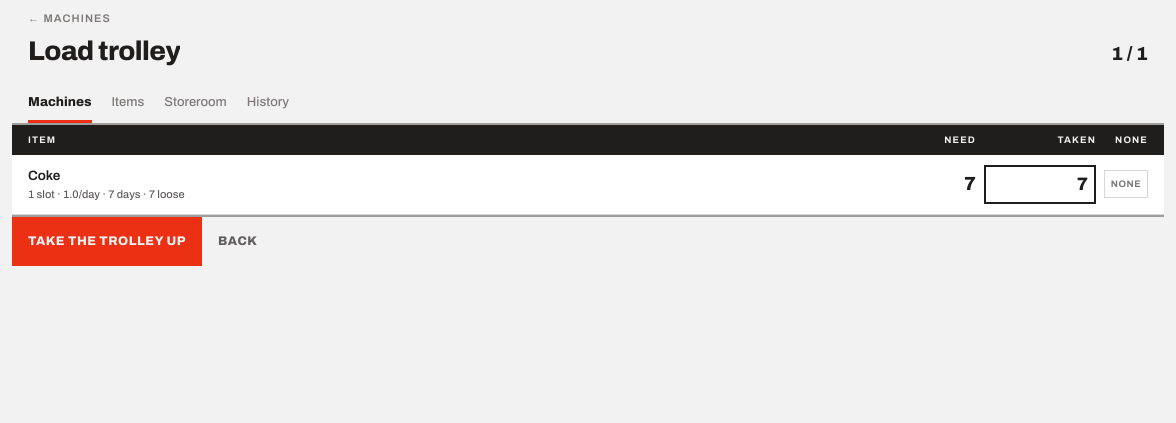
TrolleyScreen, loading › reveals who goes short the moment the taken figure will not cover it
Expected: the text "goes without" is not shown
Replace the text in the number field named "Coke units" with "3" at (1040, 184), box [984,165,1096,204]
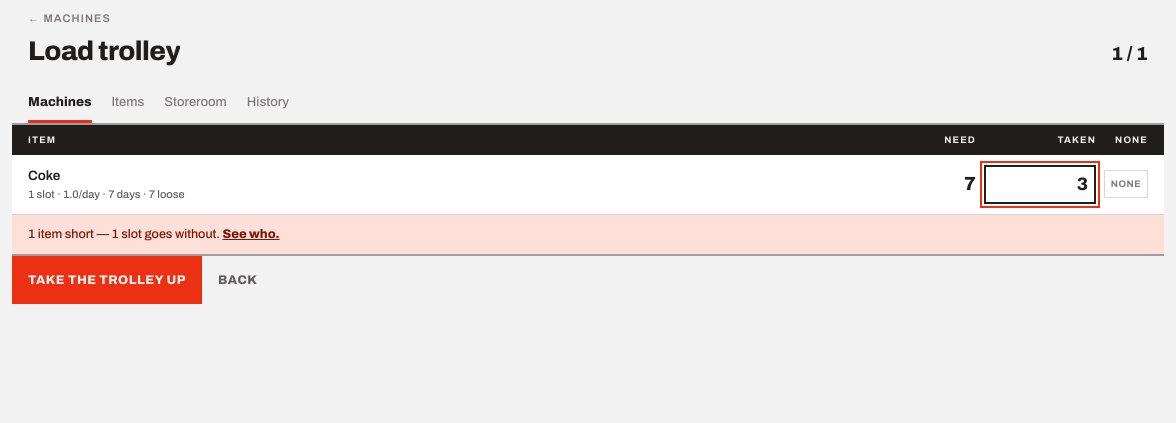
Result: the button "1 item short — 1 slot goes without. See who." is shown
Click the button "1 item short — 1 slot goes without. See who." at (70, 234), box [12,215,1164,254]
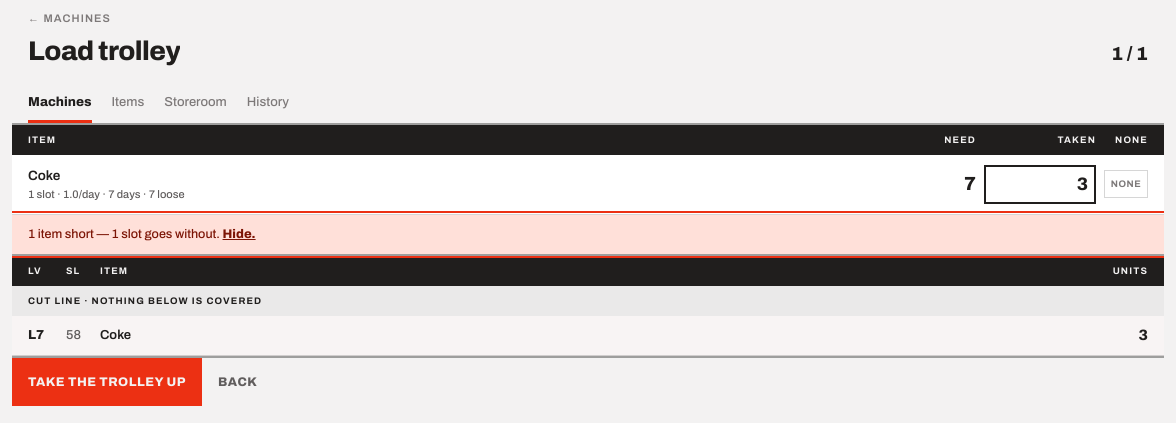
Result: the element with test id "allocation-slot-7-58" shows "3" at [1139,327,1148,343]
